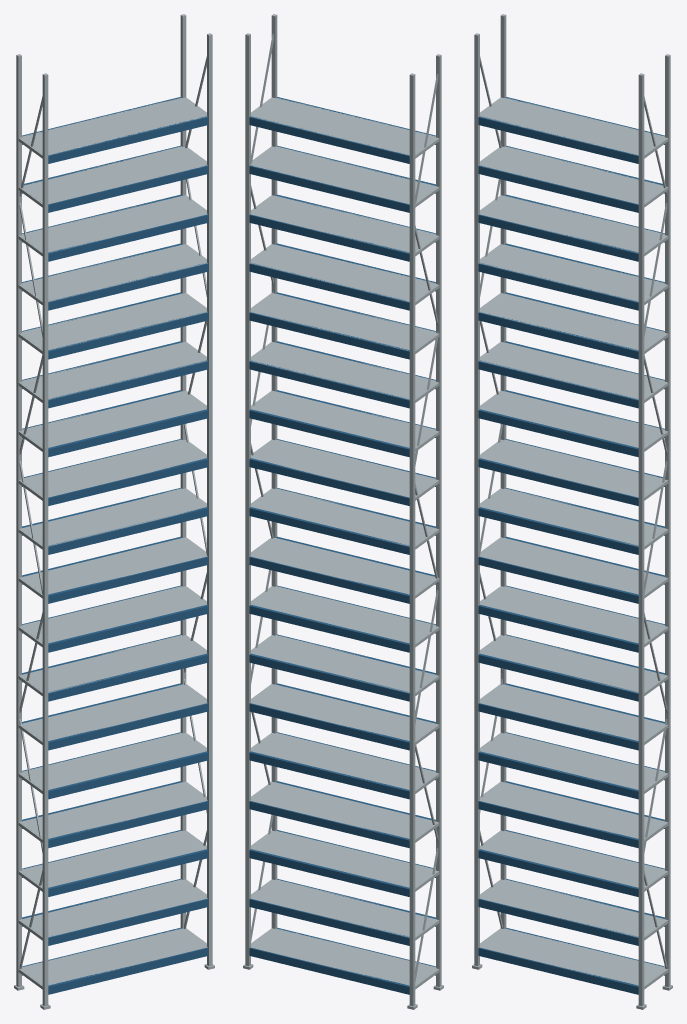
File: bin-rack-single.glb
3 views of the same model, side by side, from view 1: azimuth 30°, elevation 25°; view 2: azimuth 150°, elevation 25°; view 3: azimuth 330°, elevation 25° (orthographic).
Visible parts, largest first — view 1: bin-rack-single_galvanized_steel, bin-rack-single_beam_blue; view 2: bin-rack-single_galvanized_steel, bin-rack-single_beam_blue; view 3: bin-rack-single_galvanized_steel, bin-rack-single_beam_blue.
Part boxes in pixels (<box>): bin-rack-single_galvanized_steel: <box>14,14,214,1009</box>; bin-rack-single_beam_blue: <box>22,97,208,994</box>; bin-rack-single_galvanized_steel: <box>243,14,443,1009</box>; bin-rack-single_beam_blue: <box>249,97,435,994</box>; bin-rack-single_galvanized_steel: <box>472,14,672,1009</box>; bin-rack-single_beam_blue: <box>478,97,664,994</box>.
Size of the model in its own units: 2.07 by 10.8 by 0.63.
